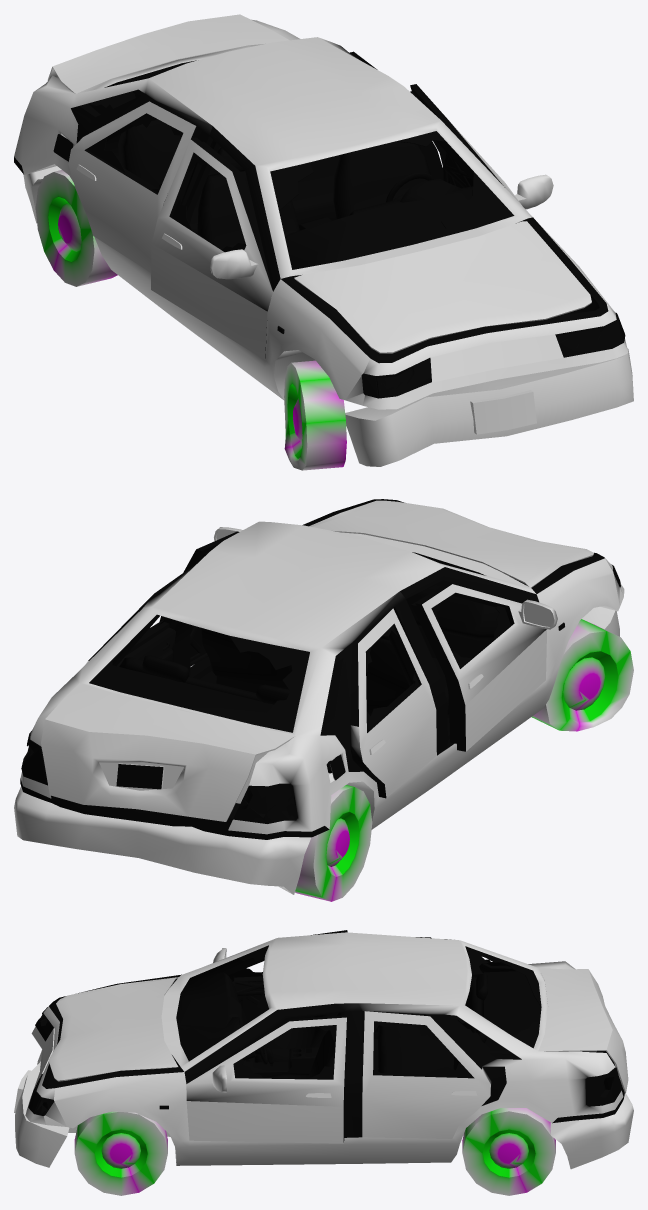
Rendered from Wrecked_Car_05_LOD.fbx.
3 views of the same model, one above another, from view 1: azimuth 30°, elevation 25°; view 2: azimuth 150°, elevation 25°; view 3: azimuth 270°, elevation 25° (orthographic). The views are drawn at different scales.
Visible parts, largest first — view 1: Wrecked_Car_2; view 2: Wrecked_Car_2; view 3: Wrecked_Car_2.
Part boxes in pixels (bbox=[...]): Wrecked_Car_2: bbox=[14, 14, 633, 470]; Wrecked_Car_2: bbox=[14, 499, 633, 901]; Wrecked_Car_2: bbox=[14, 930, 633, 1195].
Size of the model in its own units: 240 by 150 by 476.
